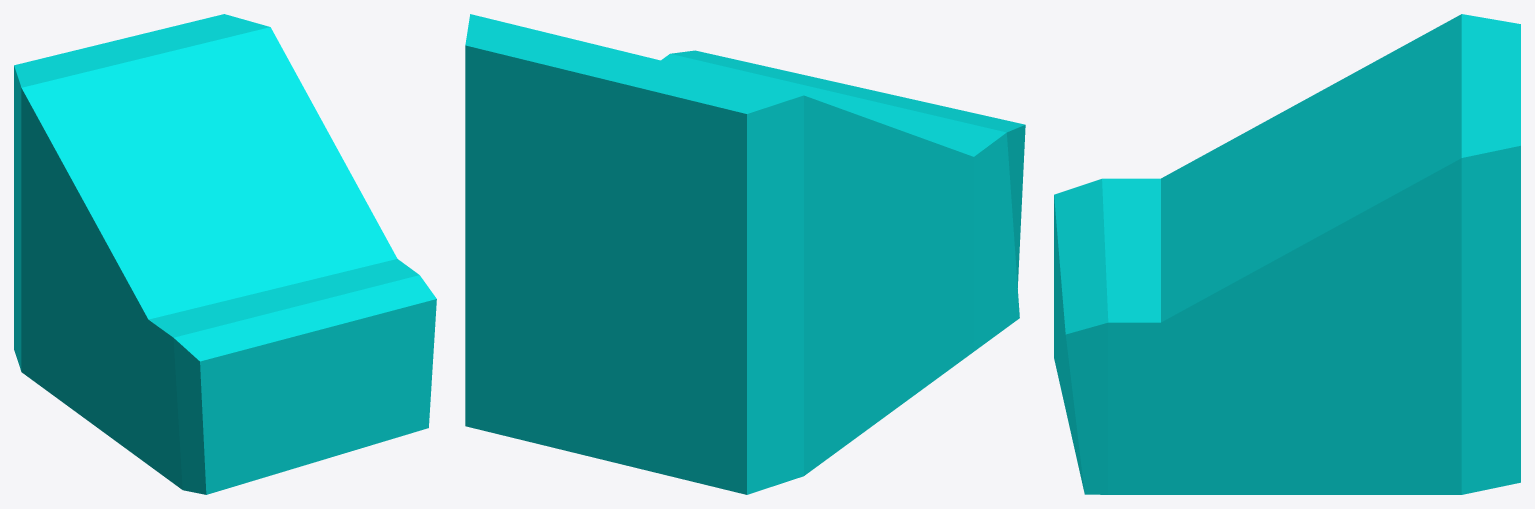
Rendered from SM_Env_Rock_Stairs_05_Colliders.fbx.
3 renders of one model, left to right at view 1: azimuth 30°, elevation 25°; view 2: azimuth 150°, elevation 25°; view 3: azimuth 270°, elevation 25°, orthographic. The views are drawn at different scales.
Visible parts, largest first — view 1: SM_Env_Rock_Stairs_05_Colliders; view 2: SM_Env_Rock_Stairs_05_Colliders; view 3: SM_Env_Rock_Stairs_05_Colliders.
Part boxes in pixels (<box>): SM_Env_Rock_Stairs_05_Colliders: <box>14,14,436,494</box>; SM_Env_Rock_Stairs_05_Colliders: <box>465,14,1025,494</box>; SM_Env_Rock_Stairs_05_Colliders: <box>1054,14,1520,494</box>.
Size of the model in its own units: 259 by 283 by 355.
